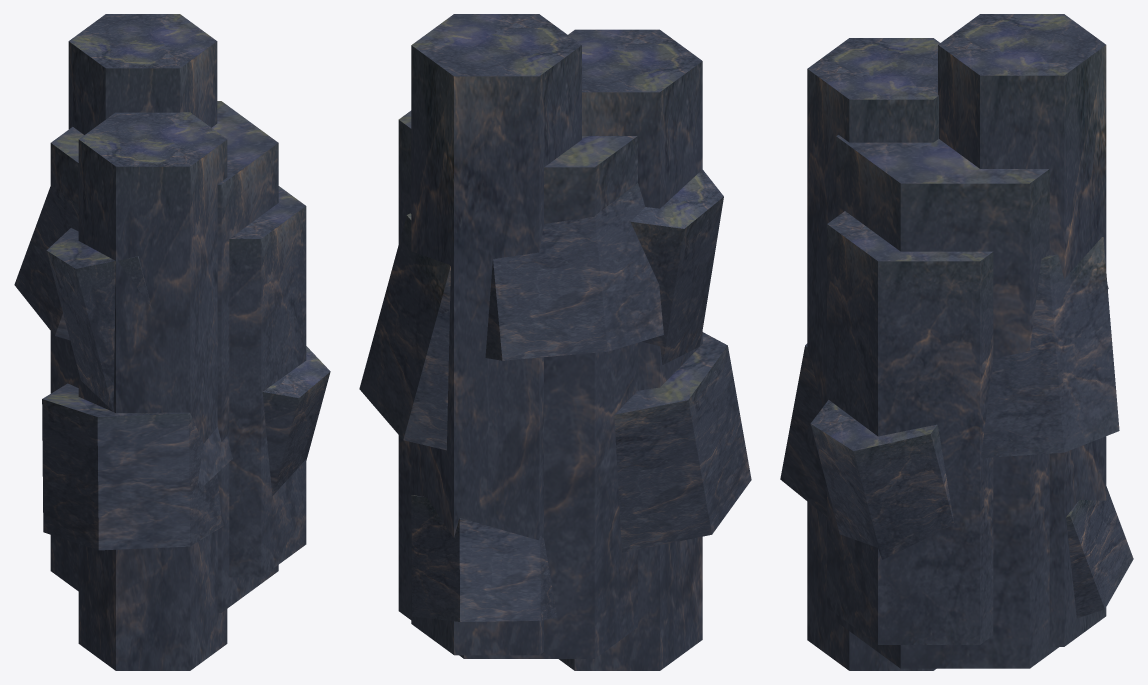
File: MS-Rock01.fbx
3 renders of one model, left to right at view 1: azimuth 30°, elevation 25°; view 2: azimuth 150°, elevation 25°; view 3: azimuth 270°, elevation 25°, orthographic. The views are drawn at different scales.
Parts seen in each view (by area): view 1: PillarRock; view 2: PillarRock; view 3: PillarRock.
Boxes of the visible parts, x1,y1,x2,y2 form: PillarRock: (14, 14, 330, 670); PillarRock: (359, 14, 751, 670); PillarRock: (780, 14, 1133, 670).
Size of the model in its own units: 199 by 405 by 209.
